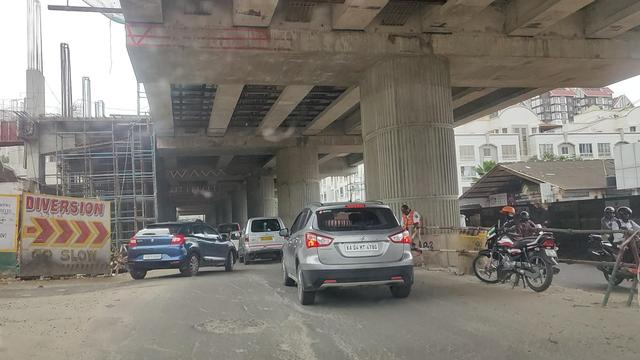LMV: (282, 203, 411, 297), (129, 221, 237, 275), (243, 218, 286, 258)
RoadDamages: (277, 301, 343, 360), (191, 311, 270, 343)
